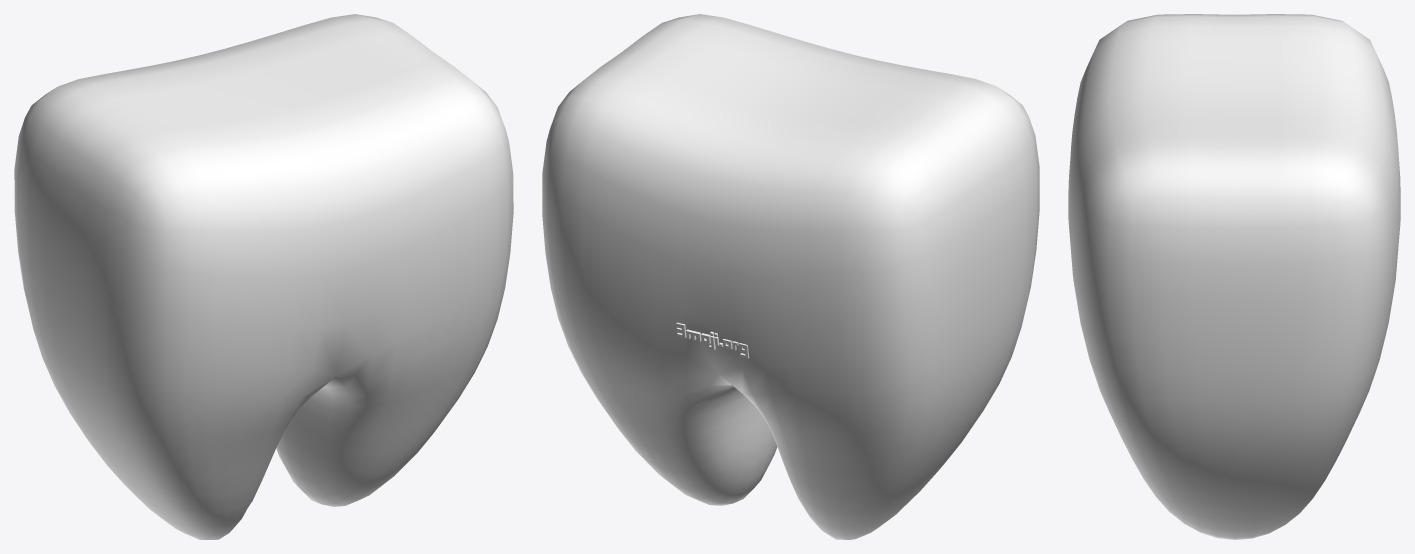
File: tooth.glb
The picture shows the model from 3 angles, left to right: view 1: azimuth 30°, elevation 25°; view 2: azimuth 150°, elevation 25°; view 3: azimuth 270°, elevation 25°; orthographic projection. The views are drawn at different scales.
Parts seen in each view (by area): view 1: Cube.106; view 2: Cube.106; view 3: Cube.106.
Part boxes in pixels (box(x1,y1,x2,y2)): Cube.106: box(14, 14, 513, 539); Cube.106: box(542, 14, 1039, 539); Cube.106: box(1068, 14, 1400, 539).
Bounding box in the file's own units: 2.13 × 2.21 × 1.57.
1 material, 1 textured.
